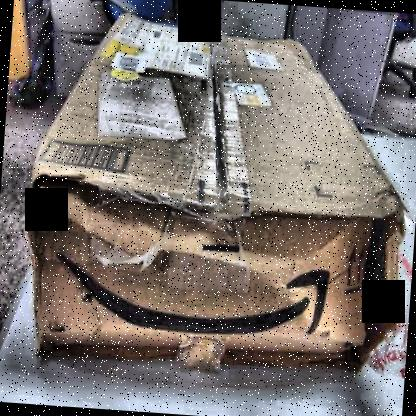defect parcel: (0, 43, 416, 416)
